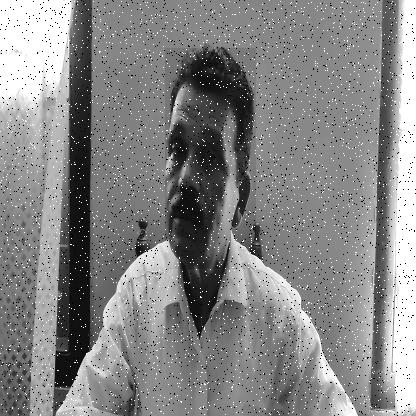Distracted: (165, 48, 256, 269)
